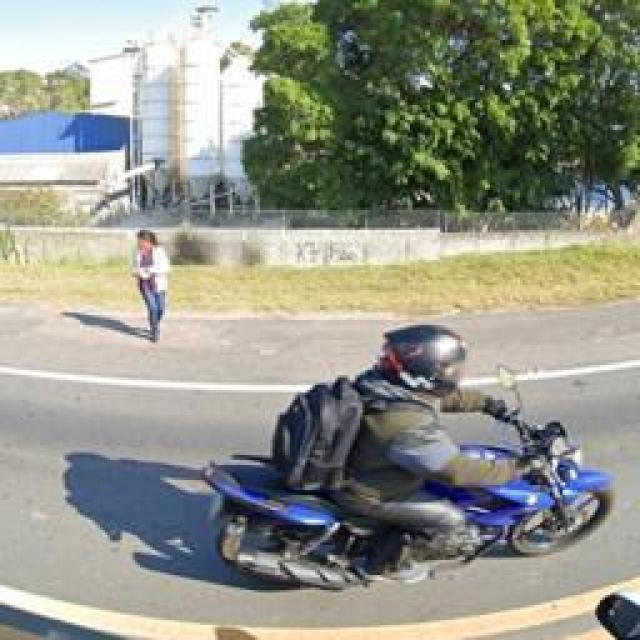Motor: (200, 419, 610, 590)
